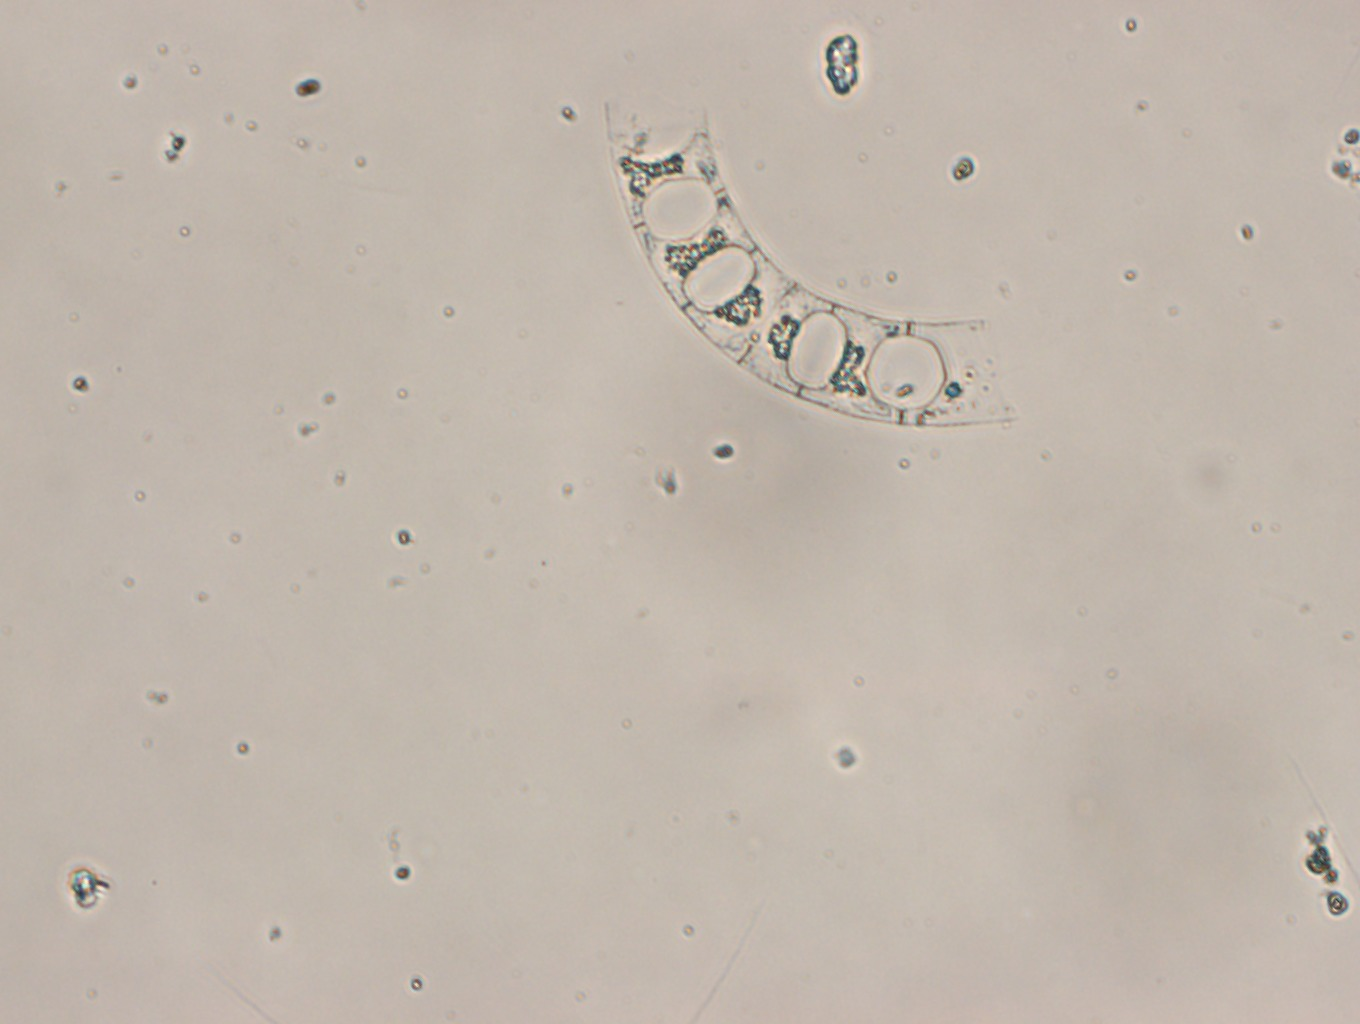eucampia: (603, 98, 1020, 426)
